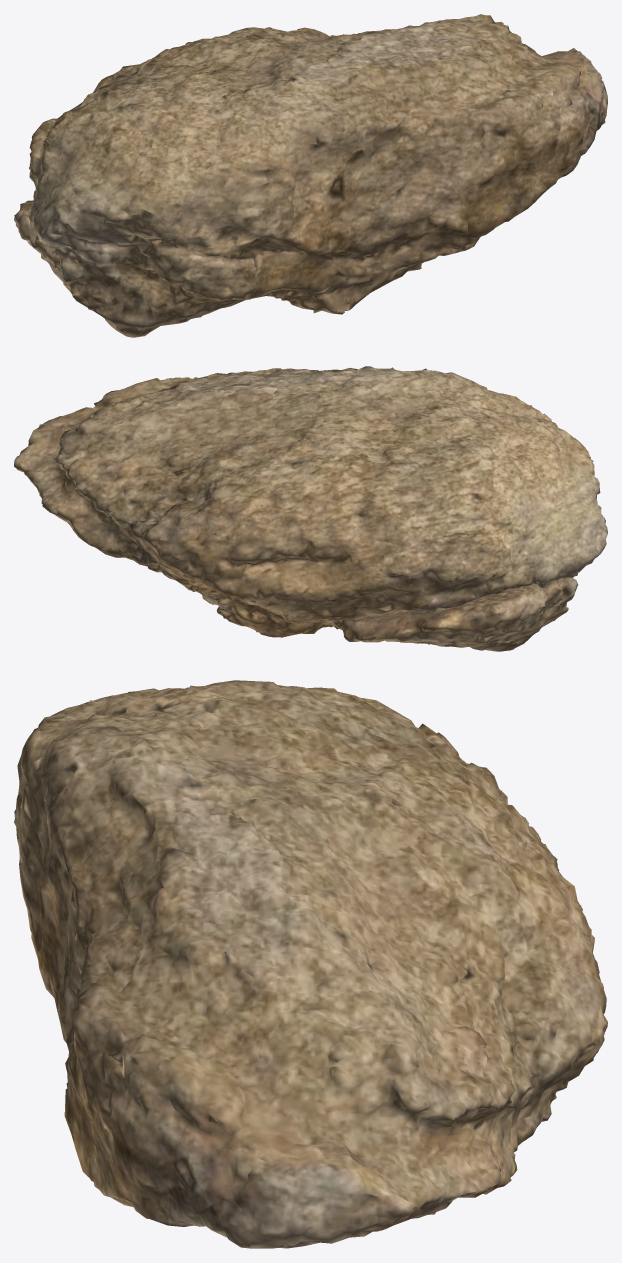
File: namaqualand_boulder_05.glb
3 views of the same model, one above another, from view 1: azimuth 30°, elevation 25°; view 2: azimuth 150°, elevation 25°; view 3: azimuth 270°, elevation 25° (orthographic). The views are drawn at different scales.
Visible parts, largest first — view 1: namaqualand_boulder_05; view 2: namaqualand_boulder_05; view 3: namaqualand_boulder_05.
Part boxes in pixels (<box>): namaqualand_boulder_05: <box>14,14,607,337</box>; namaqualand_boulder_05: <box>14,366,607,651</box>; namaqualand_boulder_05: <box>14,680,607,1248</box>.
Size of the model in its own units: 1.36 by 0.5383 by 0.748.
1 material, 1 textured.
